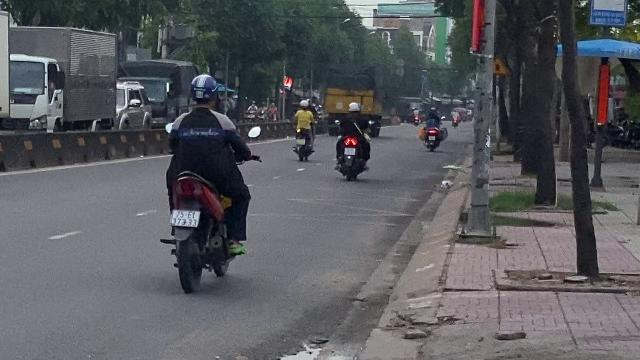helmet: (187, 74, 219, 108)
licenseplate: (172, 210, 198, 226)
motorcyclist: (157, 72, 255, 292)
